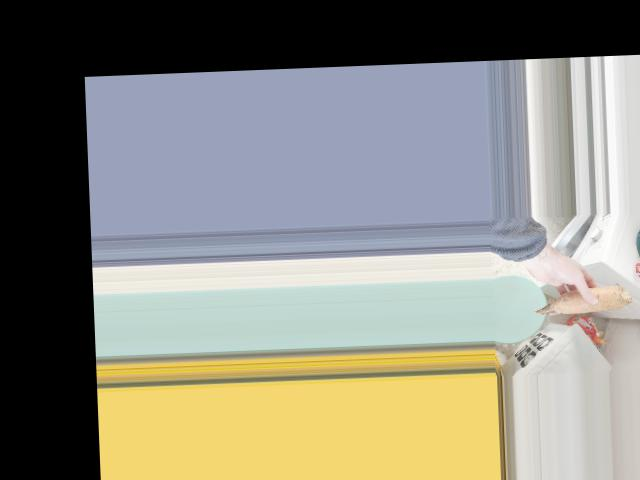sweet_potato: (539, 283, 631, 314)
